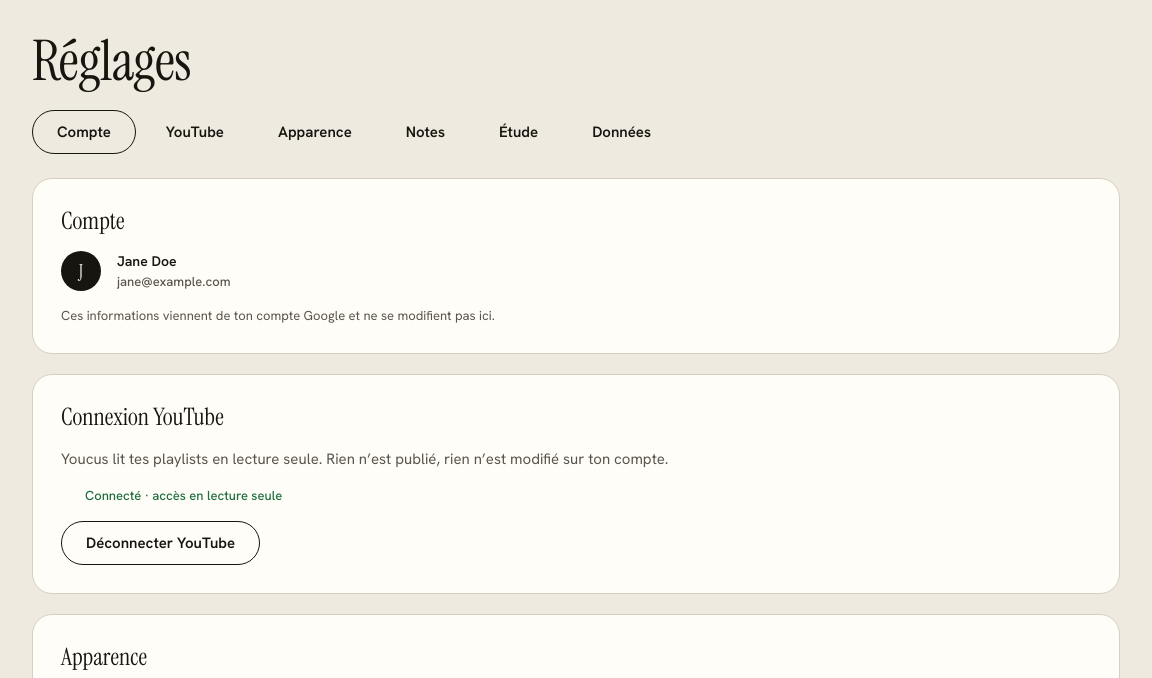
SettingsPage › YouTube connected: « Déconnecter » asks first, then DELETE /auth/youtube, and the card says it is done
Expected: the text "Connecté · accès en lecture seule" is shown, x1=85 y1=487 x2=282 y2=505
Click the button "Déconnecter YouTube" at x=161, y=543, box x1=61 y1=521 x2=260 y2=565
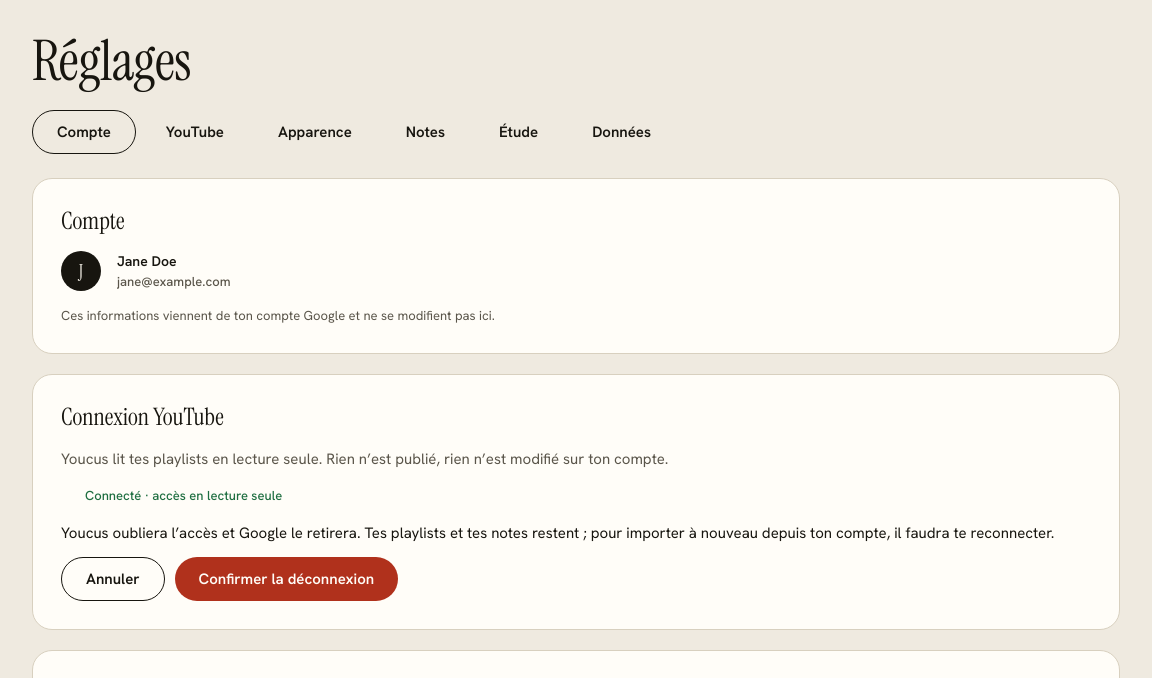
Click the button "Confirmer la déconnexion" at x=286, y=579, box x1=175 y1=557 x2=398 y2=601
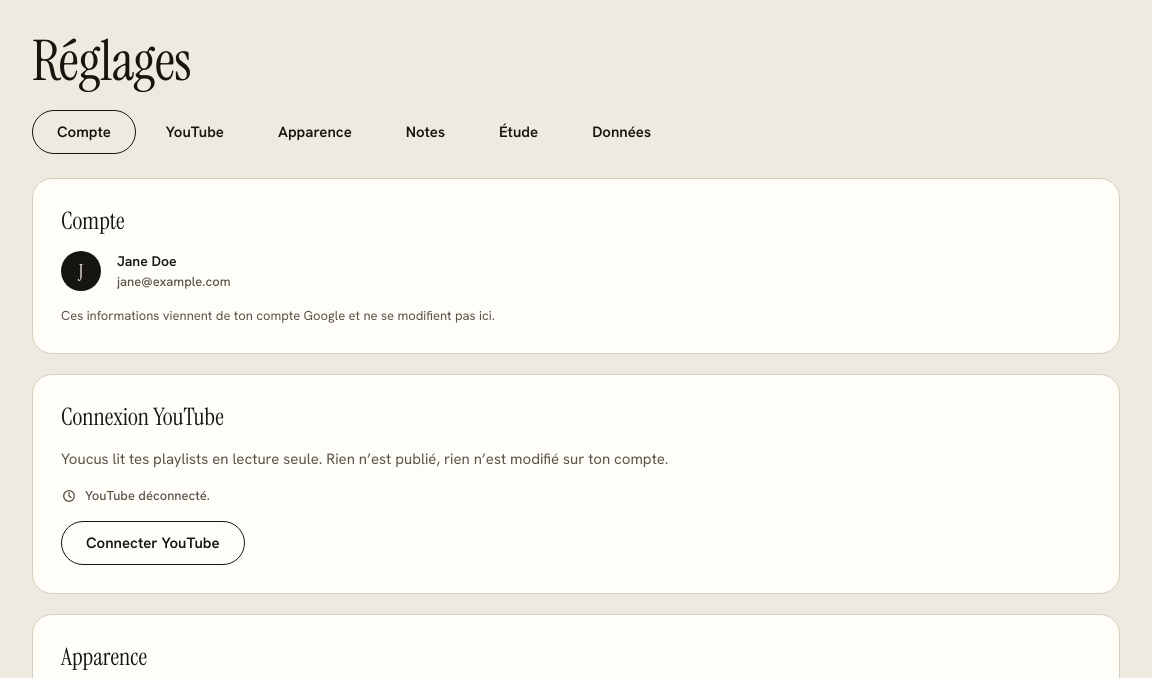
Expected: the text "YouTube déconnecté." is shown, x1=85 y1=487 x2=210 y2=505
Expected: the link "Connecter YouTube" is shown, x1=61 y1=521 x2=245 y2=565
